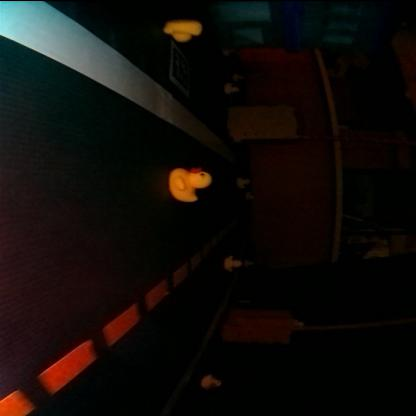Duckie: (170, 166, 212, 200), (166, 20, 202, 42), (224, 254, 242, 272), (201, 376, 221, 388), (225, 84, 240, 95), (238, 178, 250, 188)
QR code: (170, 41, 192, 95)
